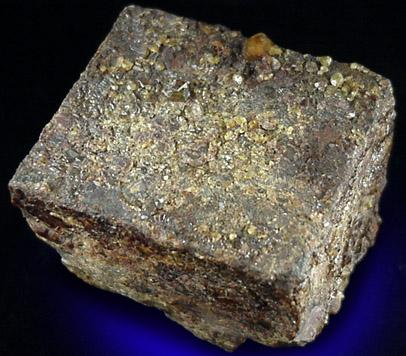magnetite: (9, 6, 396, 352)
